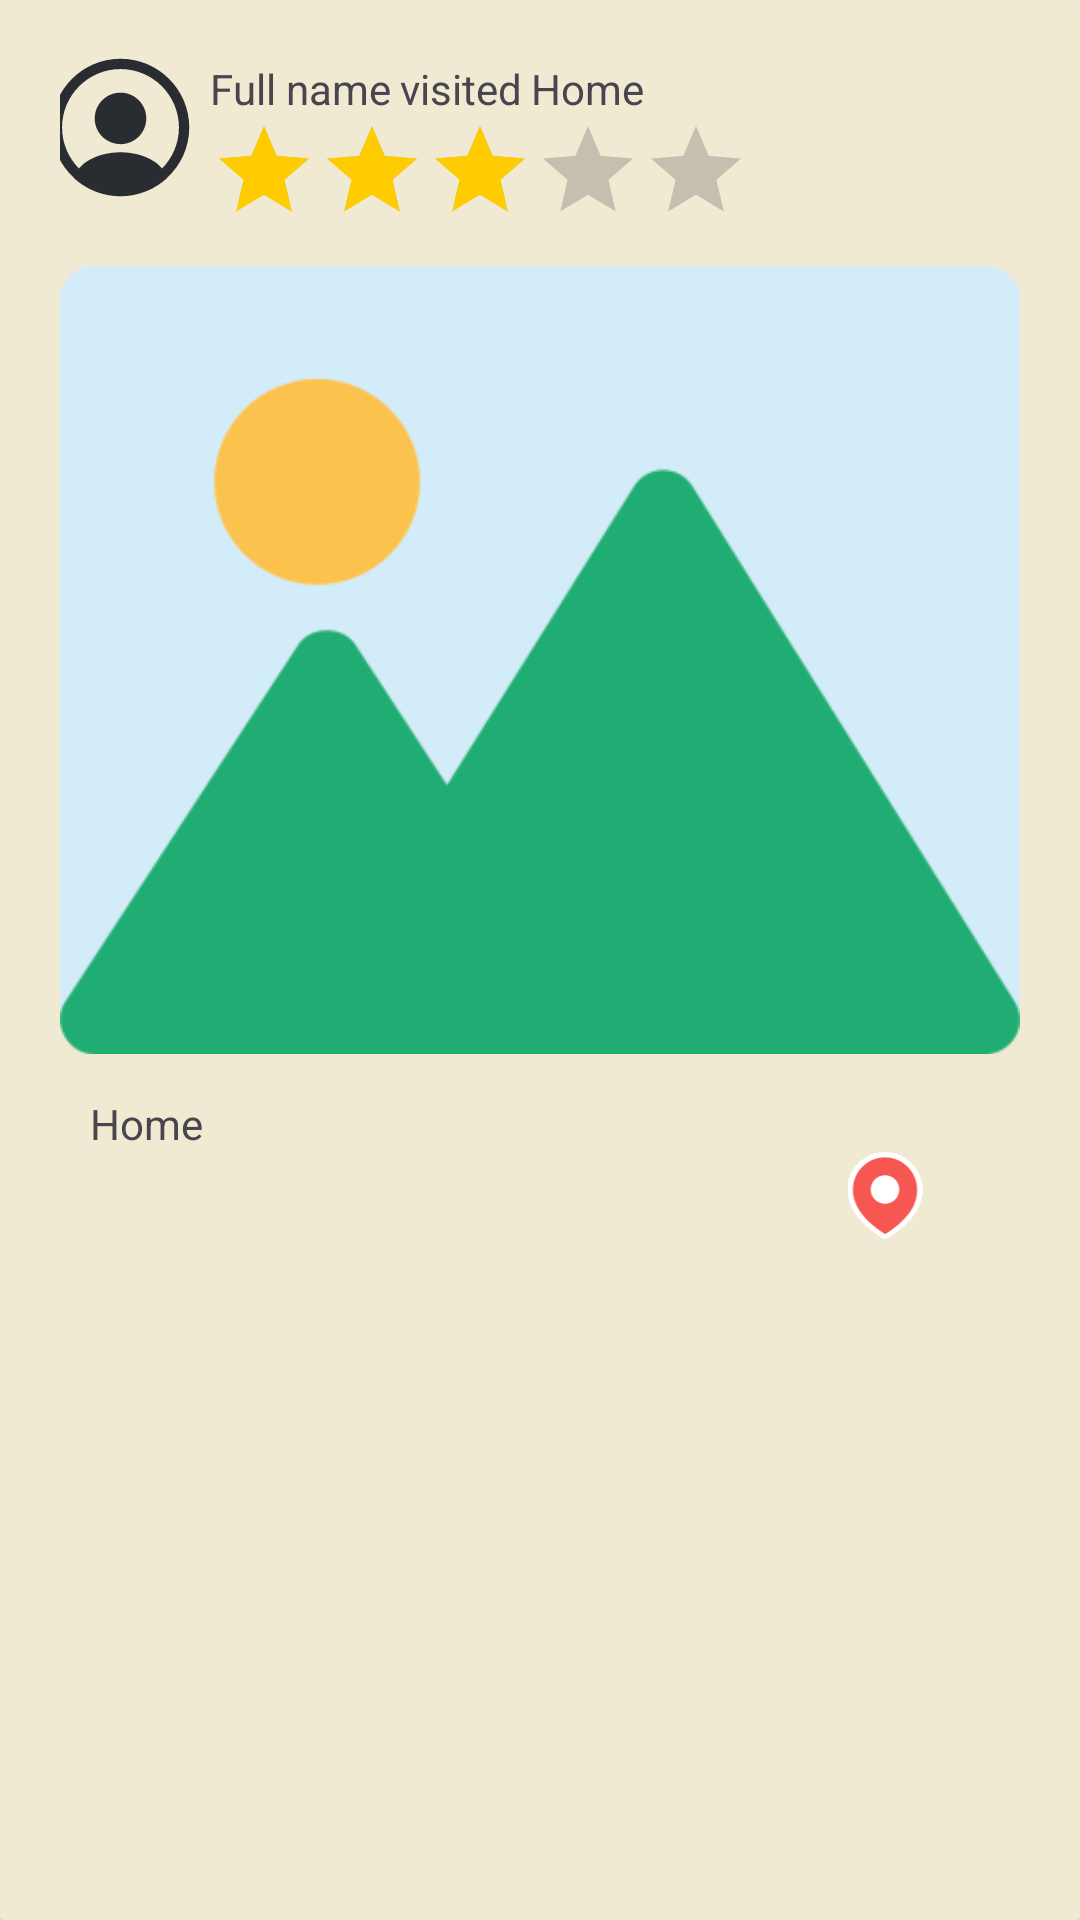

Screen size 1080px×1920px. Icon name, then its center in pixels as [x,y]:
pin: [885,1195]
profile: [125,127]
